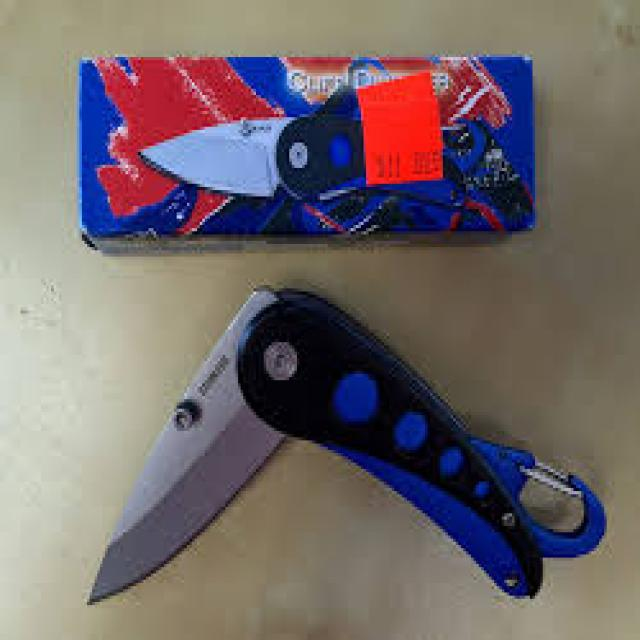knives: (31, 274, 335, 624), (121, 65, 351, 221)
